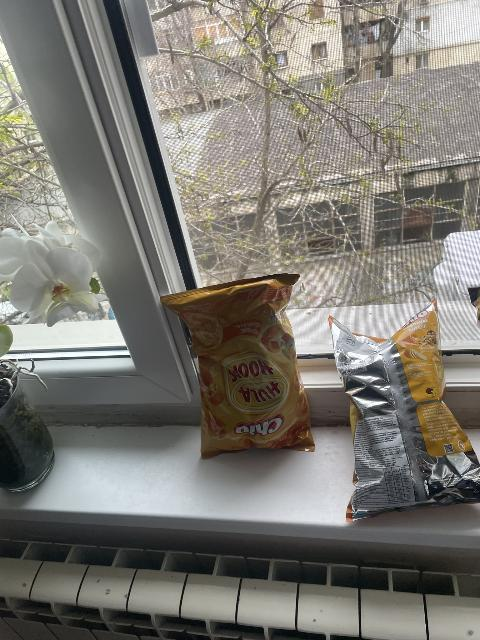Chio Cascaval 125g: (326, 297, 472, 514)
Chio Hula Hoops Cheese 70g: (159, 277, 315, 451)
